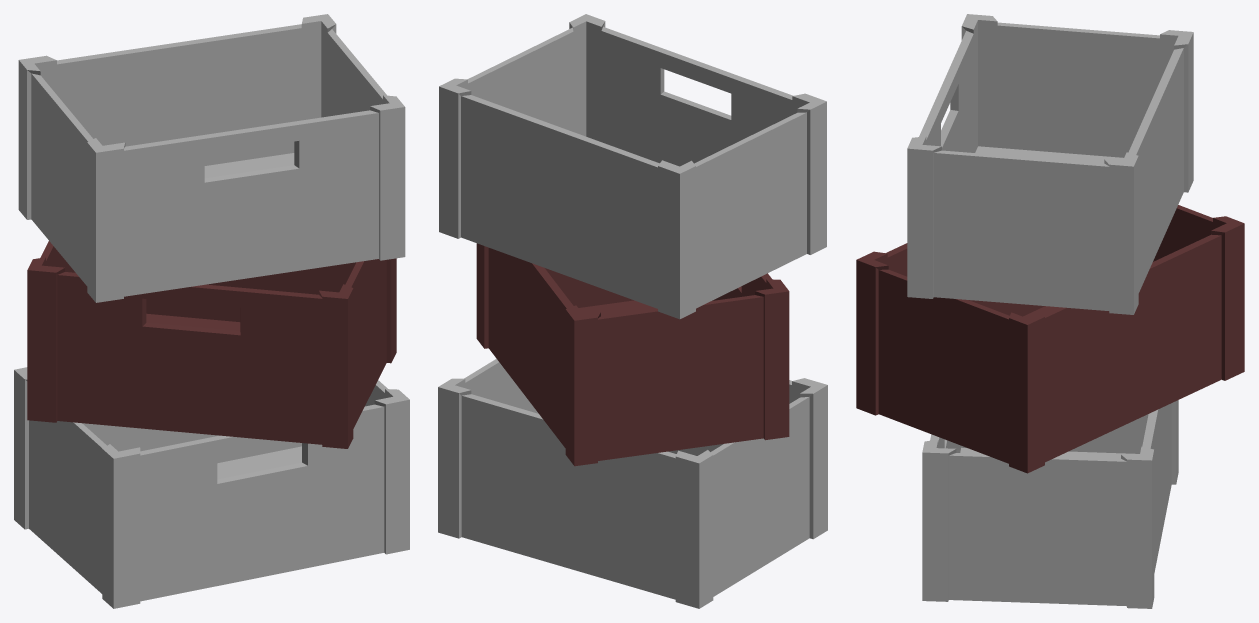
File: Caisse.fbx
3 renders of one model, left to right at view 1: azimuth 30°, elevation 25°; view 2: azimuth 150°, elevation 25°; view 3: azimuth 270°, elevation 25°, orthographic. The views are drawn at different scales.
Visible parts, largest first — view 1: polySurface40; view 2: polySurface40; view 3: polySurface40.
Boxes of the visible parts, <box> form: polySurface40: <box>14,14,409,608</box>; polySurface40: <box>438,14,827,608</box>; polySurface40: <box>856,14,1244,608</box>.
Bounding box in the file's own units: 78.12 × 97.39 × 76.77.
